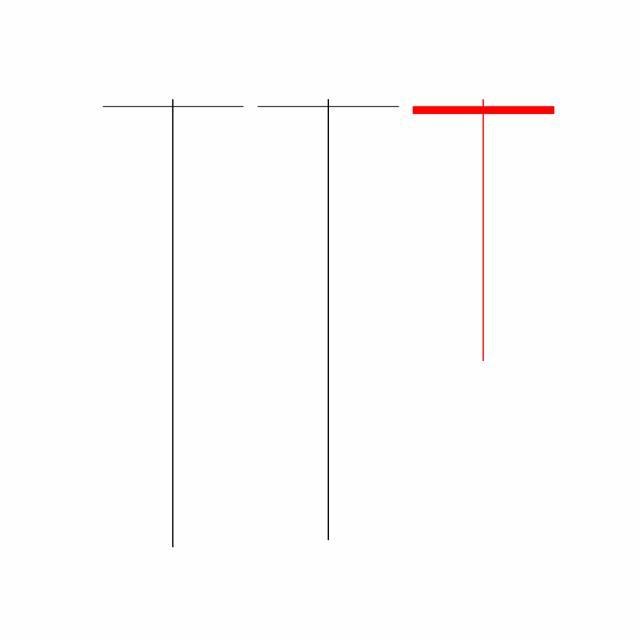Dragonfly Doji: (250, 95, 407, 546)
